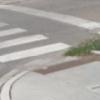crosswalks: (0, 21, 91, 71)
